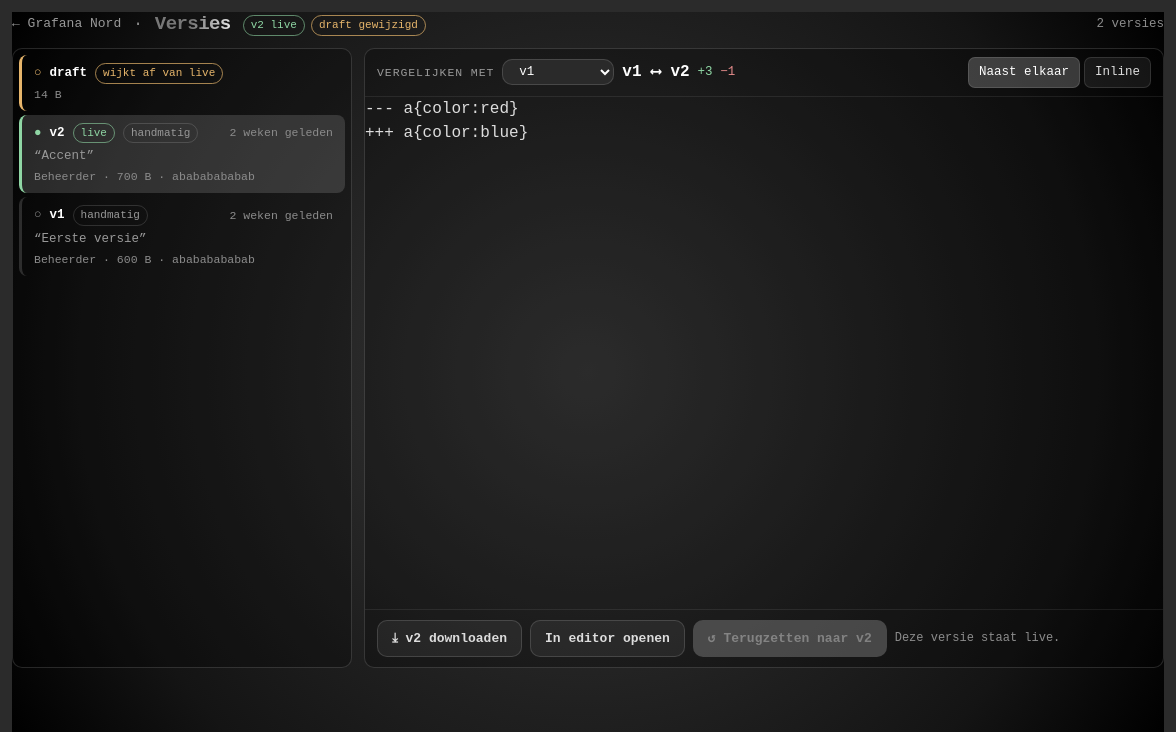
VersionsPage › switches to inline and to another left side via the URL
Step 1. Click the button "Inline" → point(1118, 72), box [1084, 57, 1151, 88]
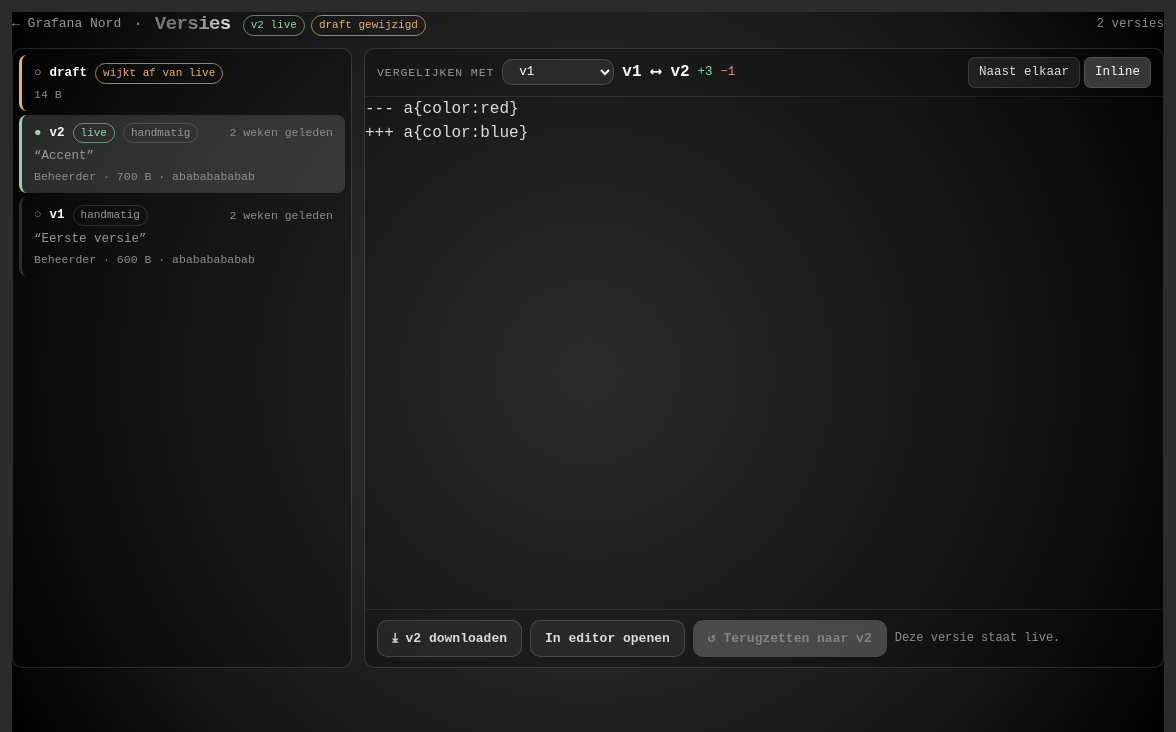
Result: the button "Inline" is pressed at [1084, 57, 1151, 88]
Step 2. Select "draft" in the dropdown labelled "Vergelijken met" → point(558, 72), box [502, 59, 614, 85]
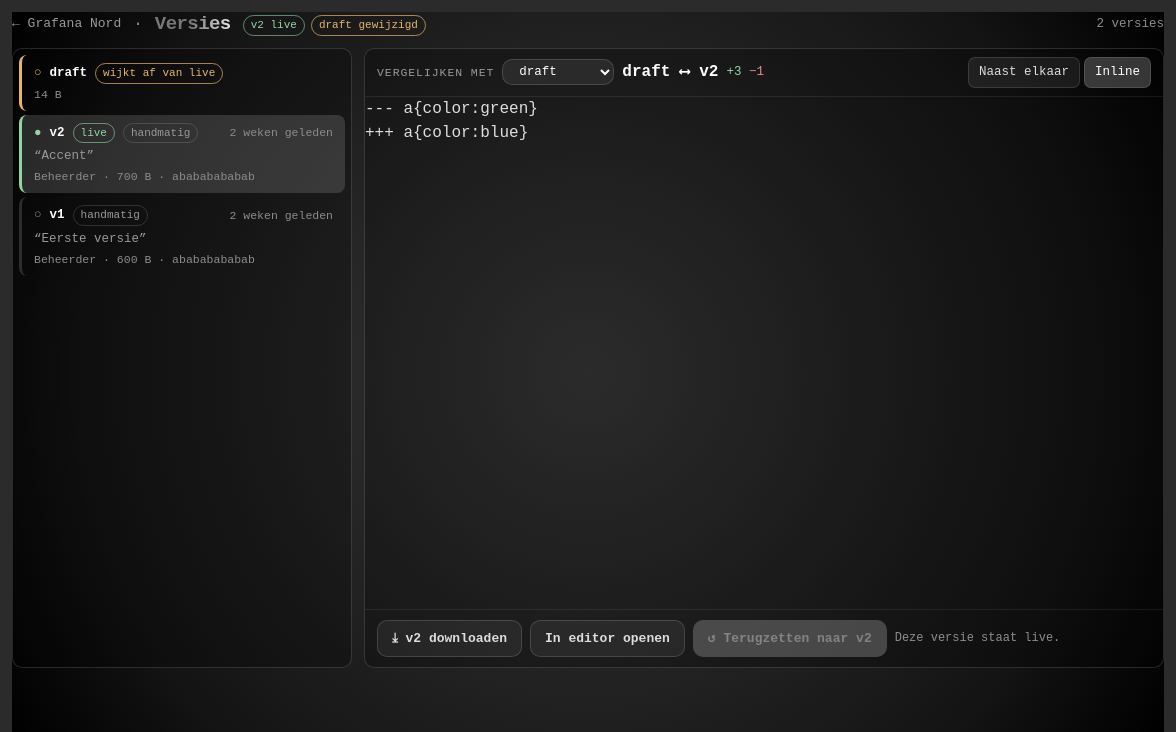
Result: the text named "Verschil draft → v2" shows "--- a{color:green}" at [365, 100, 538, 142]
